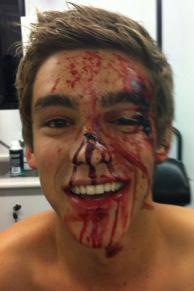Fire: (66, 49, 154, 252)
